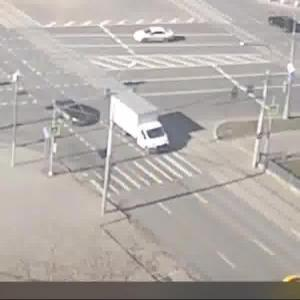car: (108, 90, 173, 154), (55, 99, 92, 129), (130, 30, 183, 49), (269, 15, 300, 35)
